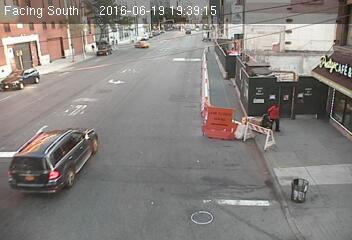neg: (179, 87, 217, 138), (302, 42, 338, 90), (228, 32, 258, 73), (178, 156, 207, 195), (121, 169, 150, 208), (21, 160, 49, 198), (287, 169, 313, 204), (19, 31, 45, 66), (61, 119, 83, 148), (127, 49, 147, 75), (91, 73, 111, 98)
pos: (263, 97, 288, 129)
